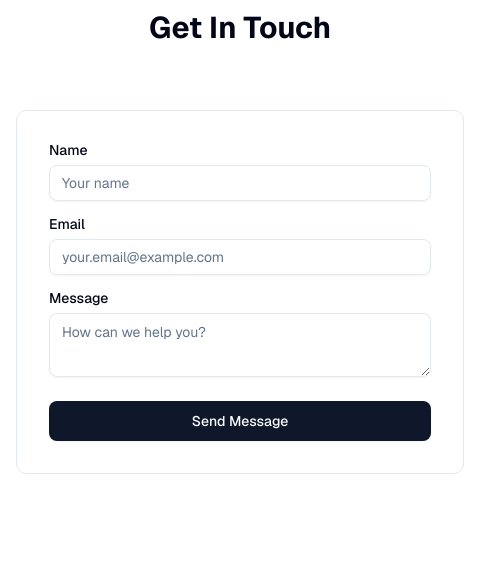
Test: Contact › submits the form with valid data
Fill in the form
Type "John Doe" into the field labelled "Name" at [240, 183], box [49,165,431,201]
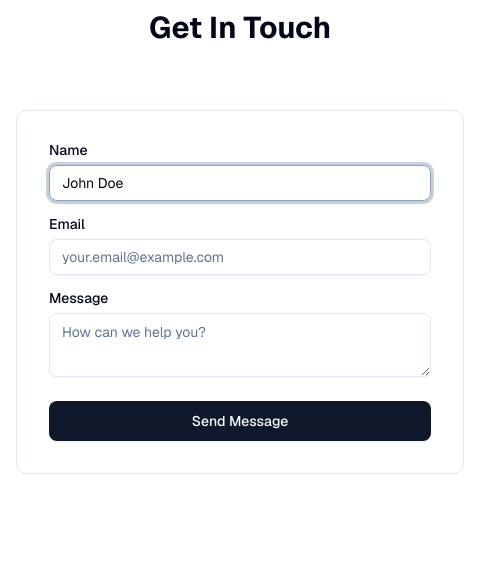
Type "john@example.com" into the field labelled "Email" at [240, 257], box [49,239,431,275]
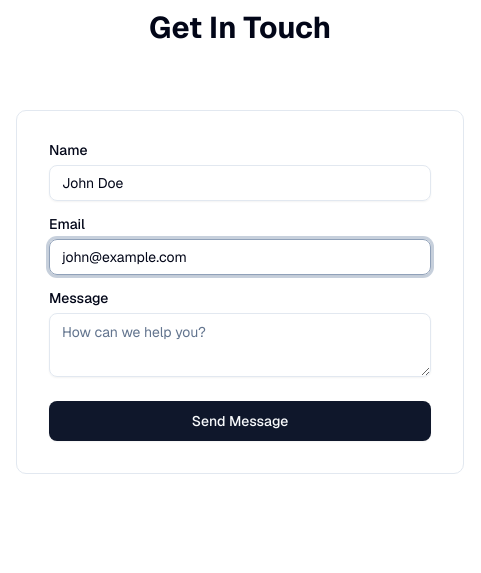
Type "Test message" into the text box labelled "Message" at [240, 345], box [49,313,431,377]
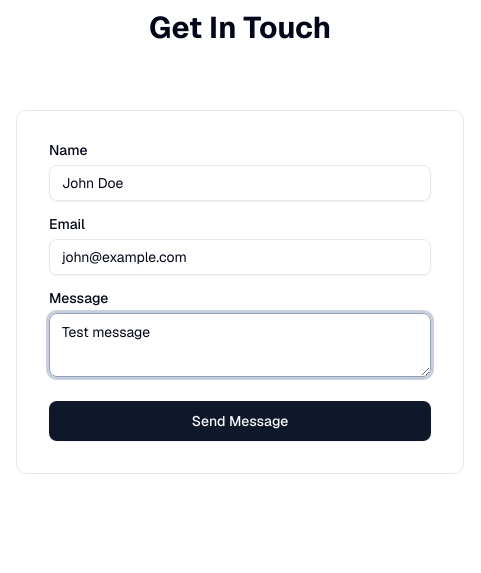
Submit the form
Click the button "Send Message" at [240, 421], box [49,401,431,441]
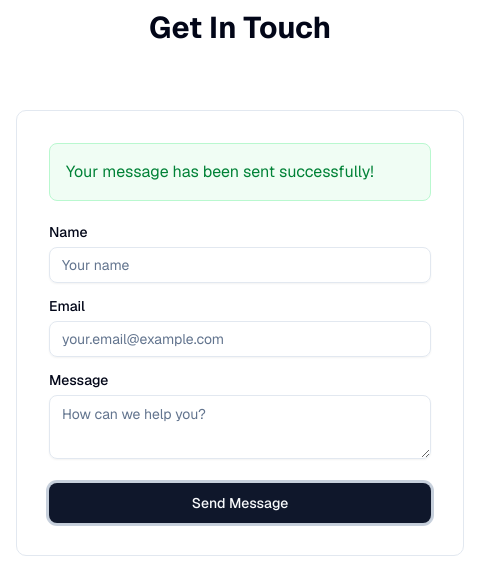
Result: the message reads "Your message has been sent successfully!" at [66,161,374,182]
